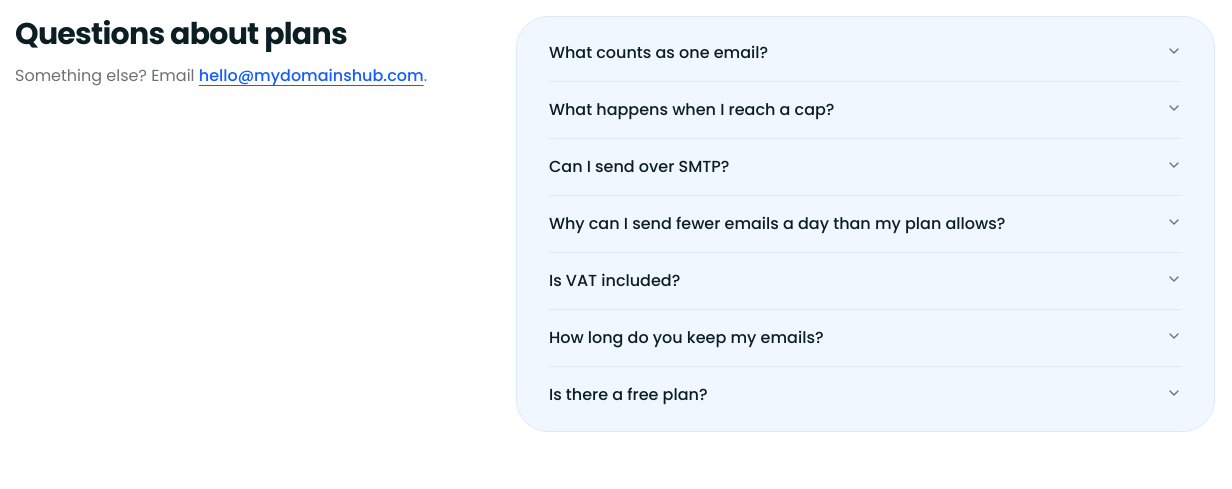
Scenario: the pricing questions › keeps every answer in the HTML, even closed (CLAUDE.md §15)
The image size is (1232, 489).
Click the button "Is VAT included?": {"x": 615, "y": 280} [549,253,1182,309]
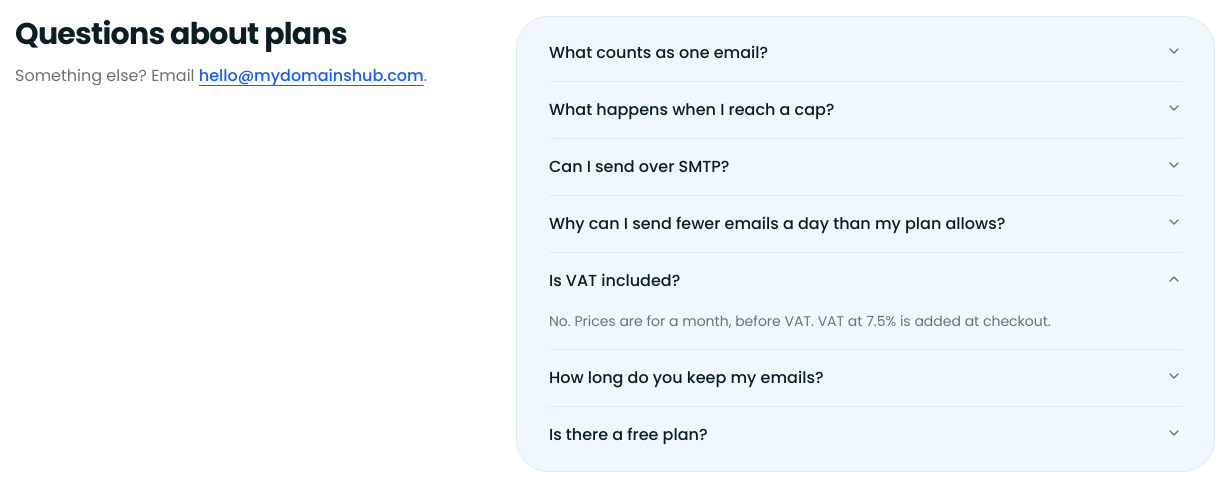
Check: the button "Is VAT included?" is expanded, box [549,253,1182,309]
